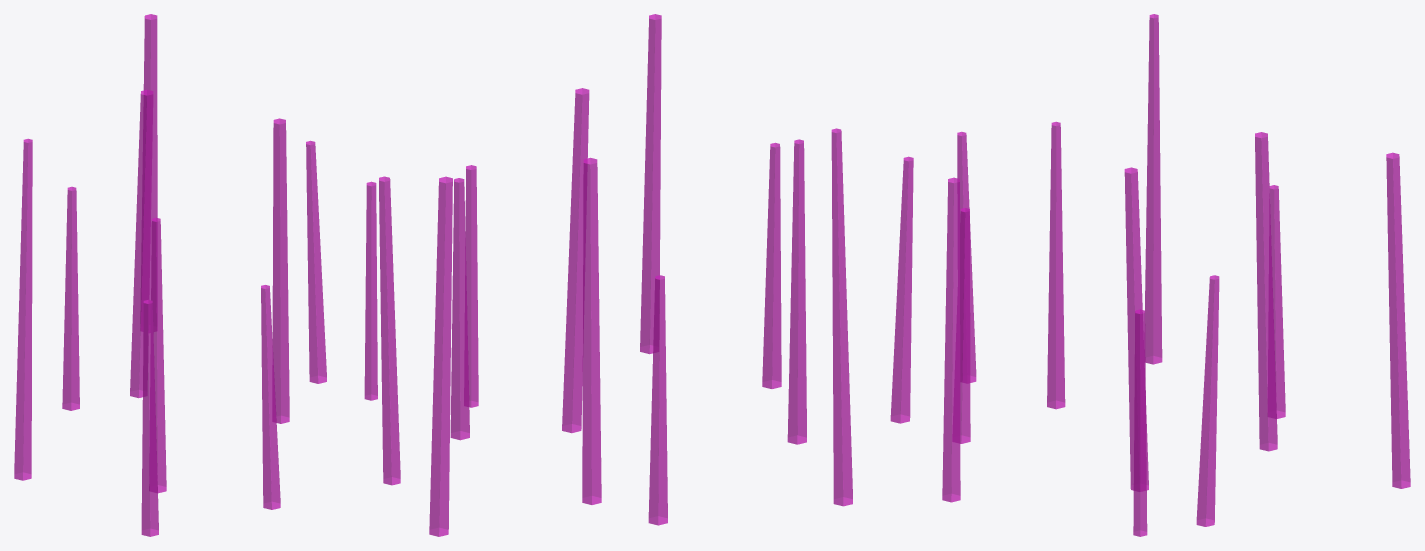
File: SM_Env_Tree_Pine_Group_03_Collision.fbx
3 views of the same model, side by side, from view 1: azimuth 30°, elevation 25°; view 2: azimuth 150°, elevation 25°; view 3: azimuth 270°, elevation 25° (orthographic). The views are drawn at different scales.
Visible parts, largest first — view 1: SM_Env_Tree_Pine_Group_03_Collision; view 2: SM_Env_Tree_Pine_Group_03_Collision; view 3: SM_Env_Tree_Pine_Group_03_Collision.
Boxes of the visible parts, x1,y1,x2,y2 form: SM_Env_Tree_Pine_Group_03_Collision: [14, 14, 400, 536]; SM_Env_Tree_Pine_Group_03_Collision: [429, 14, 913, 536]; SM_Env_Tree_Pine_Group_03_Collision: [942, 14, 1410, 536].
Bounding box in the file's own units: 1545 × 1378 × 1686.
